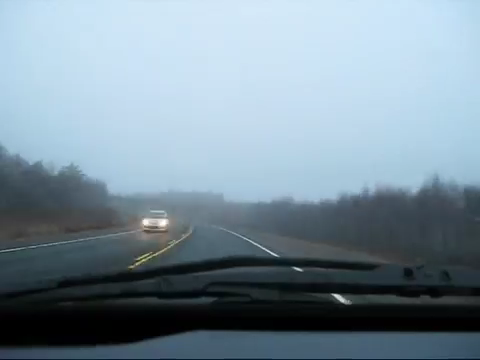car: (140, 208, 171, 233)
